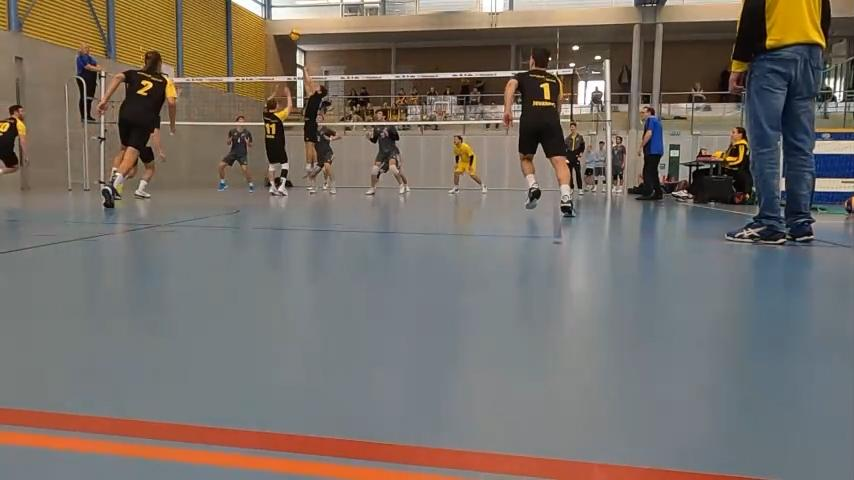alzata: (298, 65, 328, 185)
